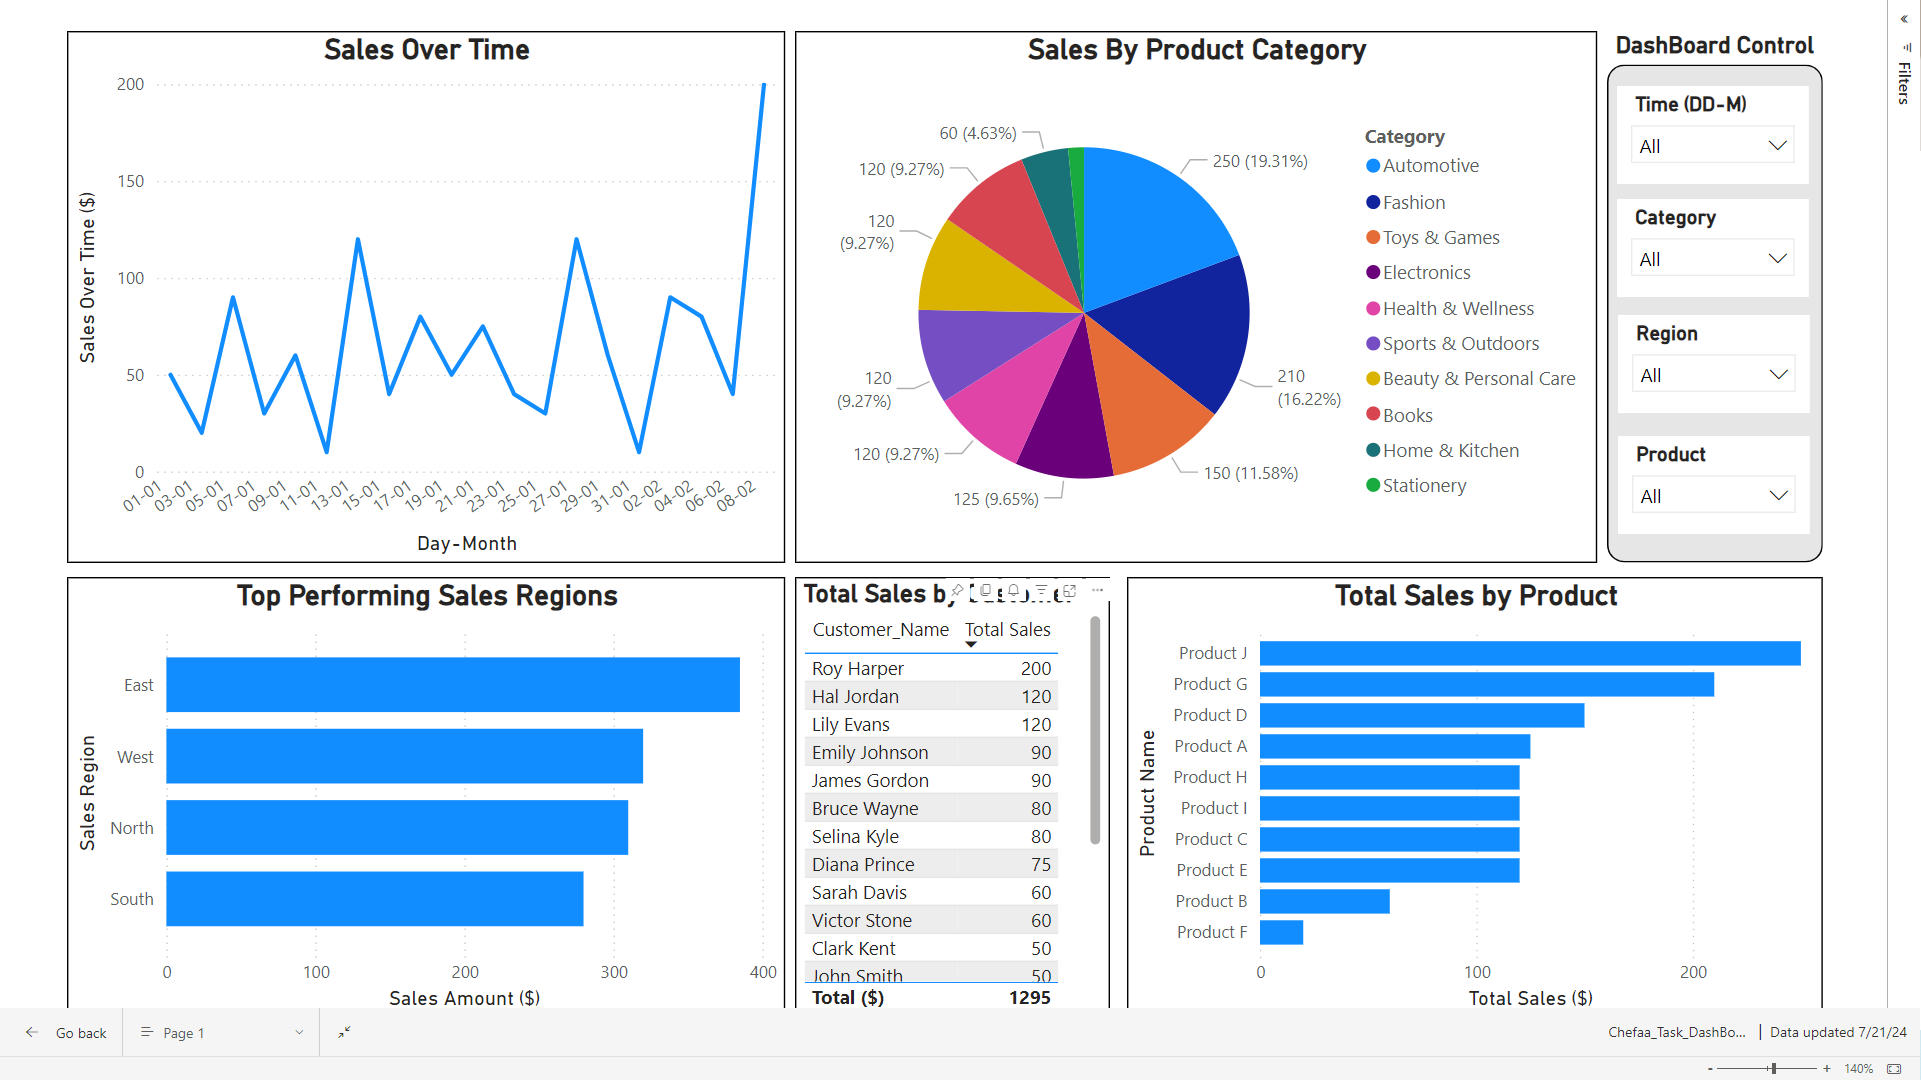

The dashboard page shown, as its layout file describes it:
{"tool":"powerbi","page":{"name":"Page 1","canvas":[1280,720],"ordinal":0},"visuals":[{"type":"lineChart","title":"Sales Over Time ","fields":{"Category":["Sales.DayMonth"],"Y":["Sales.Sales Over Time","Sales.Sales Over Time"]},"box":[13.8,14.8,512.8,379.7],"z":0},{"type":"pieChart","title":"Sales By Product Category","fields":{"Category":["Products.Category"],"Y":["Sales.Sales by Category"]},"box":[533.5,14.8,572.9,379.7],"z":1000},{"type":"barChart","title":"Top Performing Sales Regions","fields":{"Category":["Sales.Sales_Region"],"Y":["Sales.Sales by Region"]},"box":[13.8,405.3,512.8,314.6],"z":2000},{"type":"tableEx","title":"Total Sales by Customer","fields":{"Values":["Customers.Customer_Name","Sales.Total Sales"]},"box":[533.8,405.2,225.2,314.8],"z":3000},{"type":"barChart","title":"Total Sales by Product","fields":{"Category":["Products.Product_Name"],"Y":["Sales.Total Sales"]},"box":[770.5,405.2,497.4,314.8],"z":4000},{"type":"shape","title":"DashBoard Control","box":[1113.7,15.1,154.3,379.5],"z":5000},{"type":"slicer","fields":{"Values":["Sales.DayMonth"]},"box":[1120.8,54.1,137.4,70],"z":6000},{"type":"slicer","fields":{"Values":["Products.Category"]},"box":[1120.8,134.8,137.4,70],"z":7000},{"type":"slicer","fields":{"Values":["Sales.Sales_Region"]},"box":[1121.7,218.1,137.4,70],"z":8000},{"type":"slicer","fields":{"Values":["Products.Product_Name"]},"box":[1121.7,304.1,137.4,70],"z":9000}]}

Visuals, with their boxes on the page's 1280x720 design canvas (x1, y1, x2, y2). These are canvas units, not pixel positions in the 1921x1080 screenshot, which may show the page scaled, cropped or inside an application window:
"Sales Over Time " lineChart: rect(14, 15, 527, 394)
"Sales By Product Category" pieChart: rect(534, 15, 1106, 394)
"Top Performing Sales Regions" barChart: rect(14, 405, 527, 720)
"Total Sales by Customer" tableEx: rect(534, 405, 759, 720)
"Total Sales by Product" barChart: rect(770, 405, 1268, 720)
"DashBoard Control" shape: rect(1114, 15, 1268, 395)
slicer - Sales.DayMonth: rect(1121, 54, 1258, 124)
slicer - Products.Category: rect(1121, 135, 1258, 205)
slicer - Sales.Sales_Region: rect(1122, 218, 1259, 288)
slicer - Products.Product_Name: rect(1122, 304, 1259, 374)
